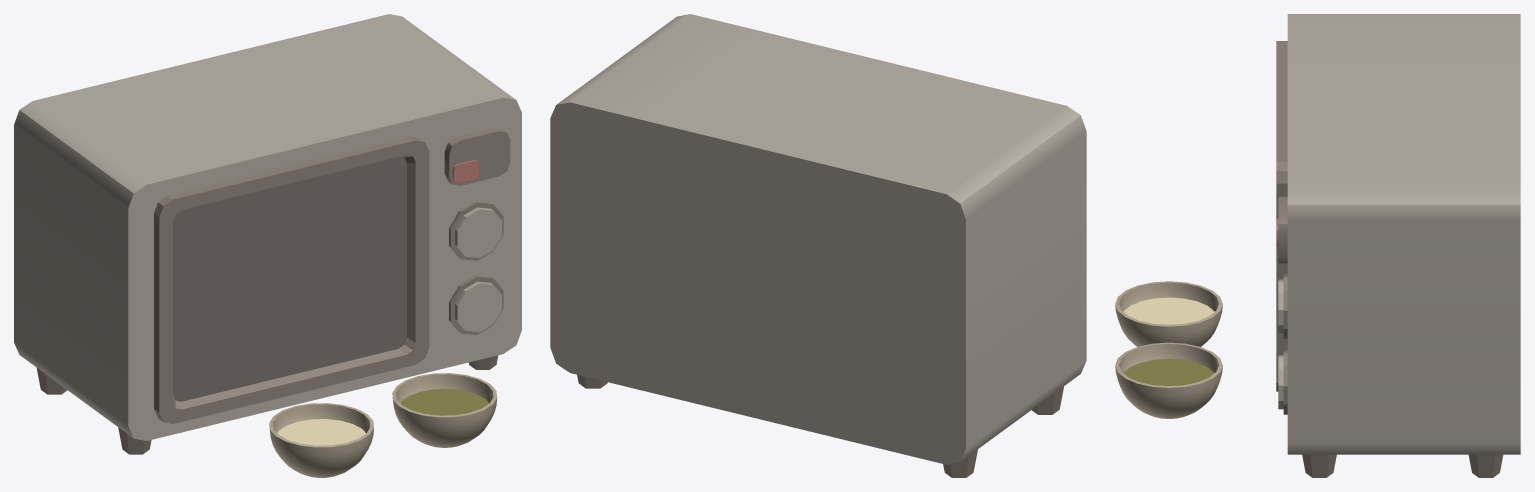
Rendered from choco_3.fbx.
3 renders of one model, left to right at view 1: azimuth 30°, elevation 25°; view 2: azimuth 150°, elevation 25°; view 3: azimuth 270°, elevation 25°, orthographic. The views are drawn at different scales.
Parts seen in each view (by area): view 1: pCube447, pCube481, pSphere10, pSphere12, pCube559, pCylinder138, pCylinder140, pSphere11, pSphere13, pCylinder141, pCylinder139; view 2: pCube447; view 3: pCube447, pSphere12, pSphere10, pCube481, pSphere11, pSphere13, pCylinder129, pCylinder131, pCube559.
Part boxes in pixels (left/top/right/bottom): pCube447: left=14, top=14, right=521, bottom=440; pCube481: left=154, top=136, right=429, bottom=423; pSphere10: left=269, top=403, right=373, bottom=477; pSphere12: left=392, top=373, right=497, bottom=447; pCube559: left=444, top=128, right=510, bottom=185; pCylinder138: left=455, top=207, right=501, bottom=257; pCylinder140: left=455, top=281, right=501, bottom=332; pSphere11: left=277, top=419, right=365, bottom=445; pSphere13: left=400, top=389, right=489, bottom=415; pCylinder141: left=449, top=275, right=503, bottom=334; pCylinder139: left=449, top=201, right=503, bottom=260; pCube447: left=550, top=14, right=1086, bottom=464; pCube447: left=1287, top=14, right=1520, bottom=454; pSphere12: left=1115, top=342, right=1222, bottom=418; pSphere10: left=1115, top=281, right=1222, bottom=346; pCube481: left=1276, top=41, right=1287, bottom=391; pSphere11: left=1123, top=297, right=1214, bottom=324; pSphere13: left=1124, top=358, right=1214, bottom=385; pCylinder129: left=1302, top=454, right=1336, bottom=477; pCylinder131: left=1468, top=454, right=1503, bottom=477; pCube559: left=1278, top=196, right=1287, bottom=263.
Size of the model in its own units: 0.7686 by 0.5179 by 0.6724.
